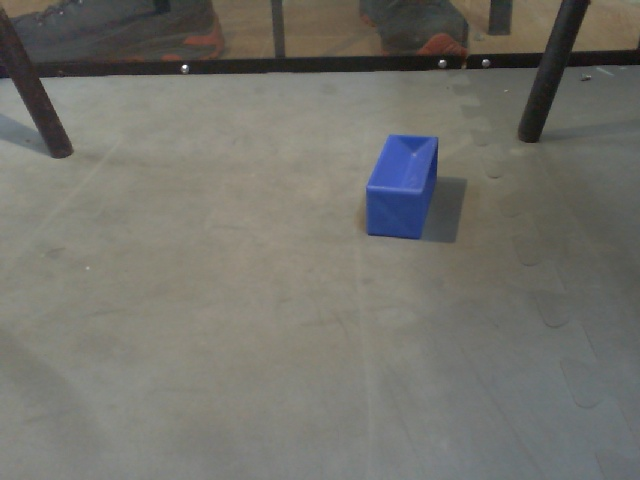BlueSample: (362, 133, 440, 242)
